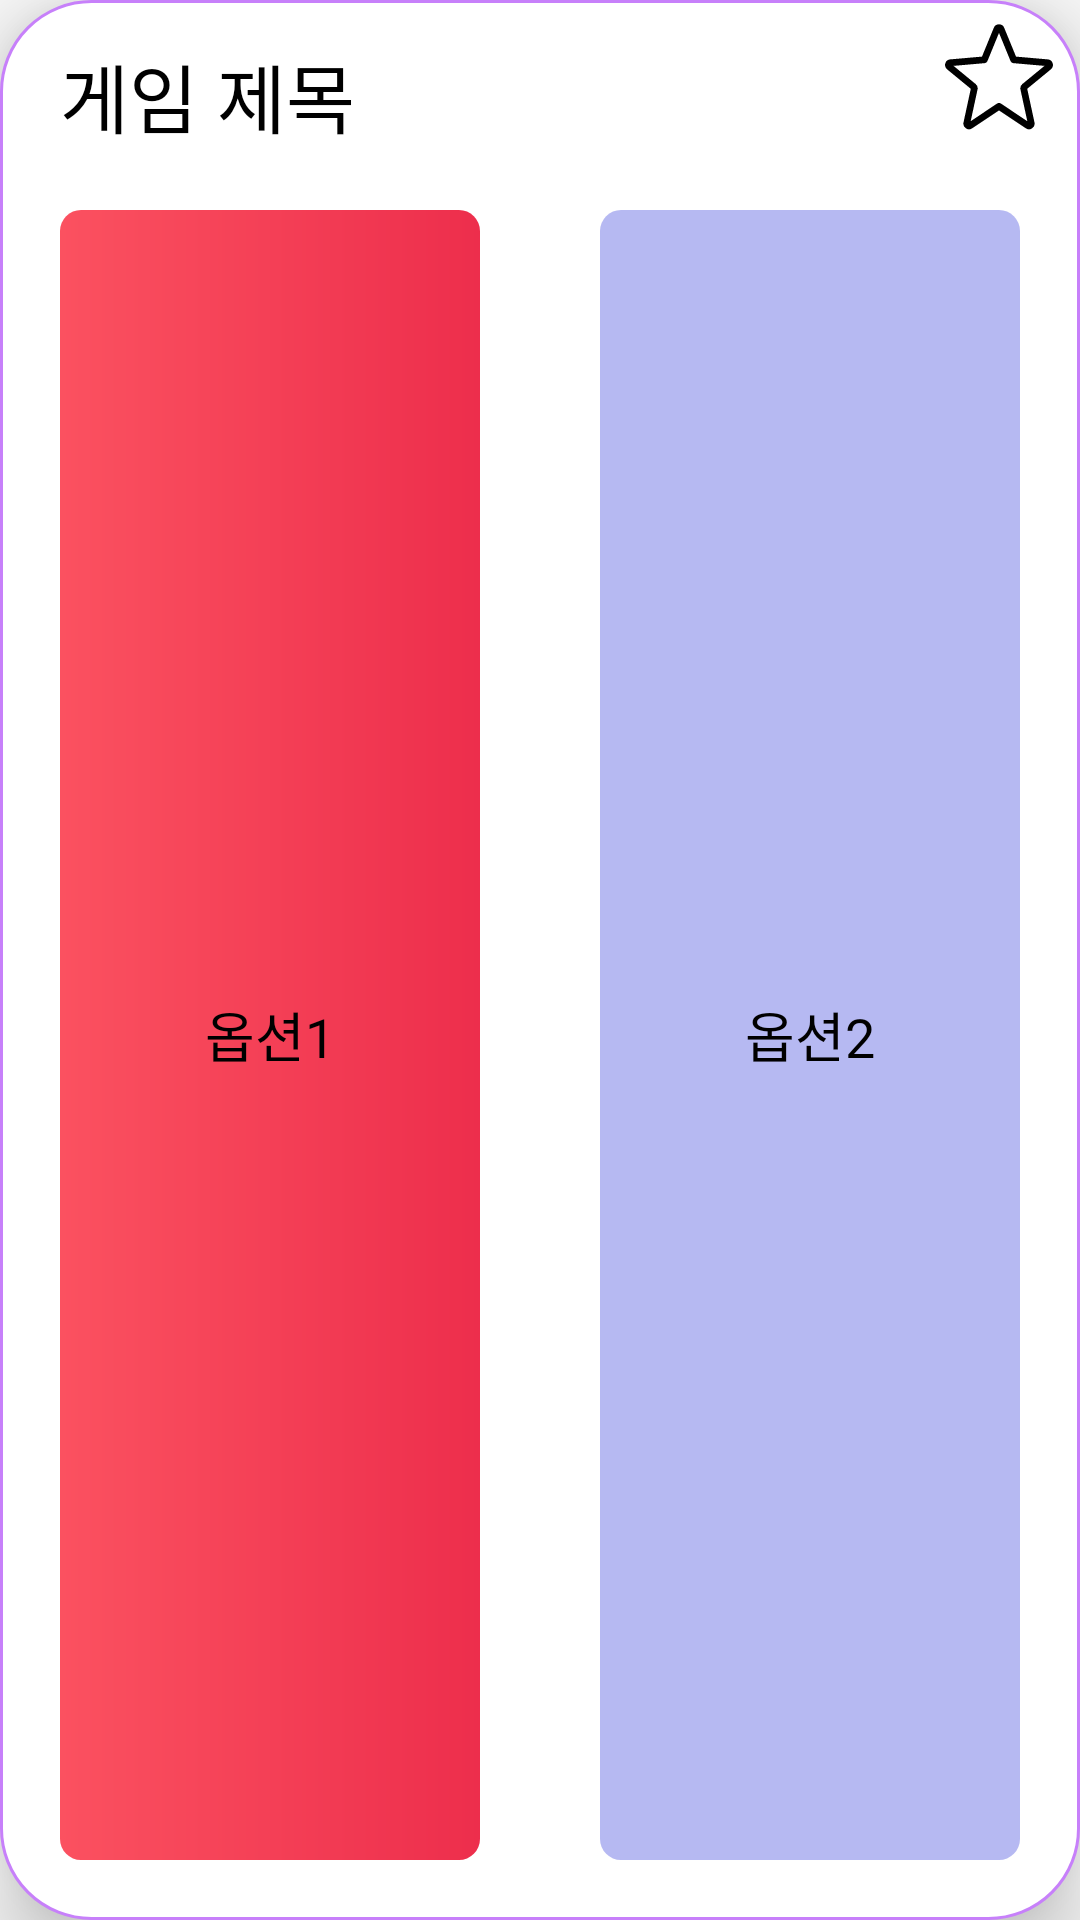

Screen size 1080 × 1920. Icon name, then its box in pixels as (x1, y1, x2, y2):
bookmark unselect: (945, 24, 1053, 130)
